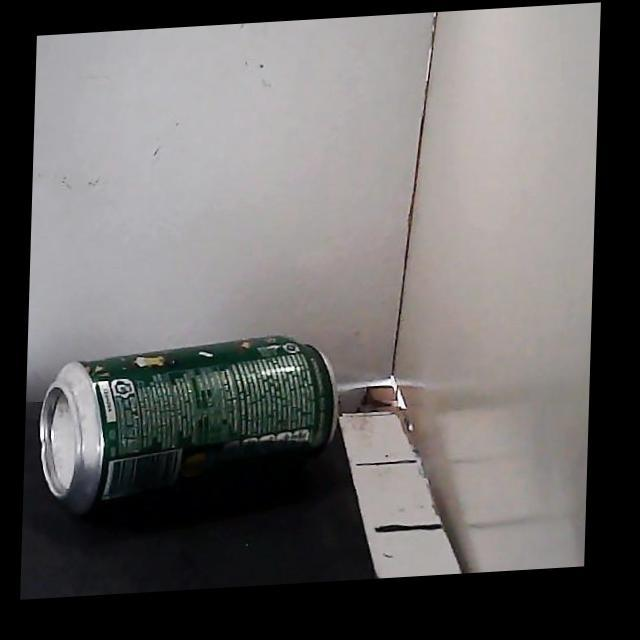metal: (40, 335, 337, 513)
